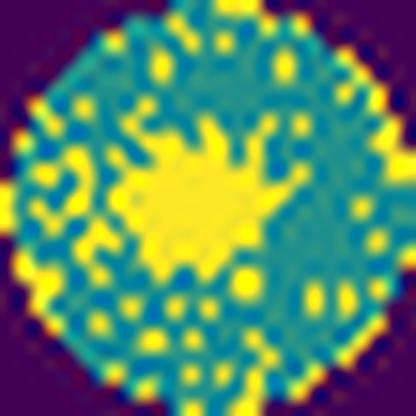Center: (108, 96, 317, 291)
